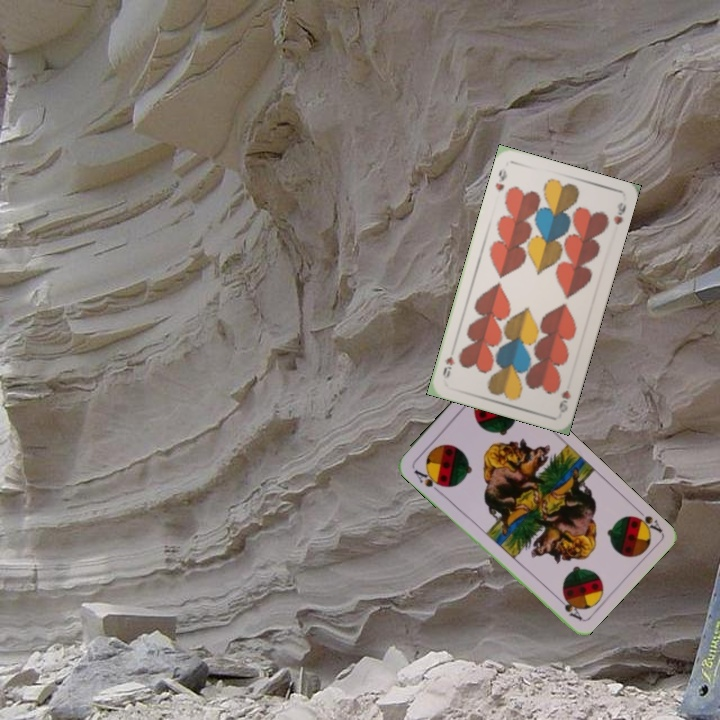H9: (491, 164, 510, 195), (555, 386, 573, 415)
SA: (627, 504, 665, 538), (409, 465, 446, 496)
